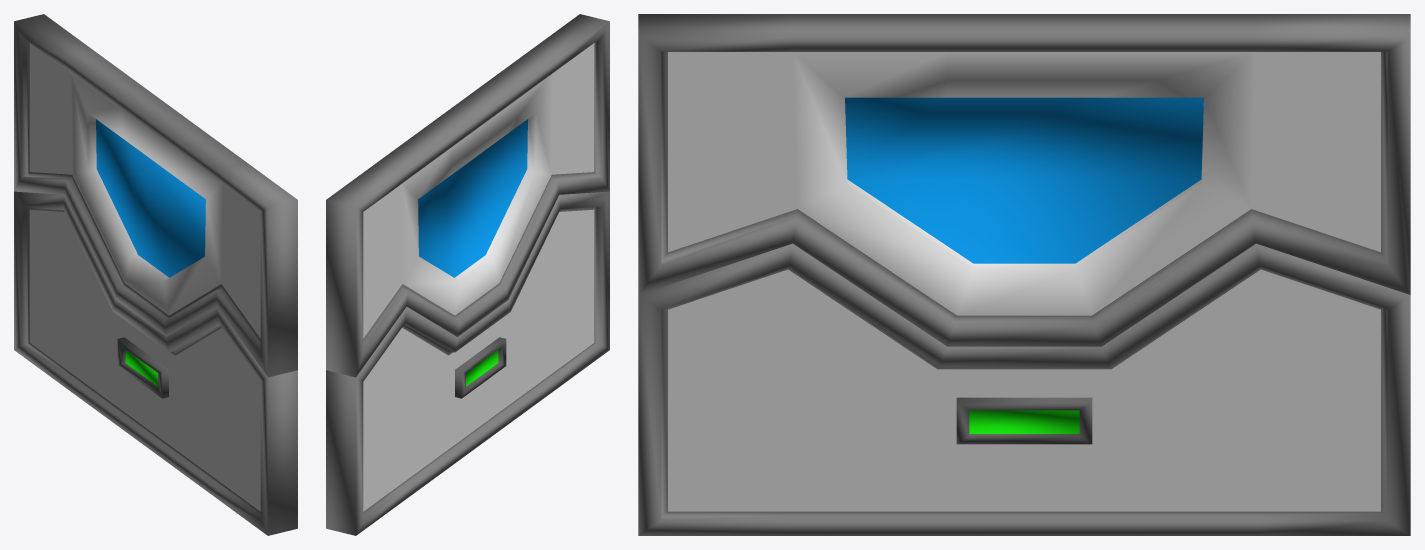
Rendered from PuertasDobles.fbx.
3 views of the same model, side by side, from view 1: azimuth 30°, elevation 25°; view 2: azimuth 150°, elevation 25°; view 3: azimuth 270°, elevation 25° (orthographic). The views are drawn at different scales.
Visible parts, largest first — view 1: Cube.003, Cube.001; view 2: Cube.003, Cube.001; view 3: Cube.003, Cube.001.
Boxes of the visible parts, <box> form: Cube.003: <box>14,14,297,377</box>; Cube.001: <box>14,191,297,535</box>; Cube.003: <box>326,14,609,377</box>; Cube.001: <box>326,191,609,535</box>; Cube.003: <box>638,14,1410,346</box>; Cube.001: <box>638,243,1410,535</box>.
Size of the model in its own units: 49.22 by 484 by 678.
